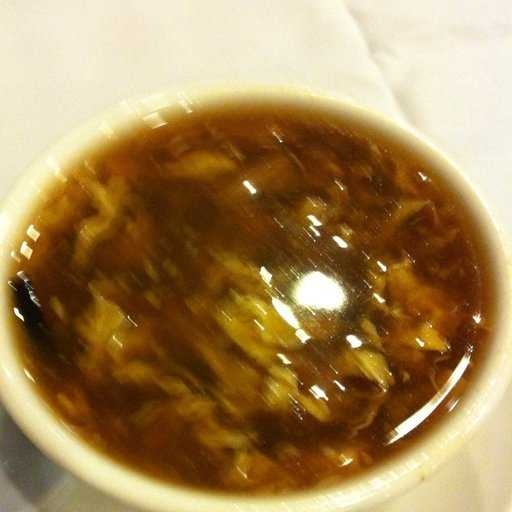soup: (3, 88, 504, 500)
